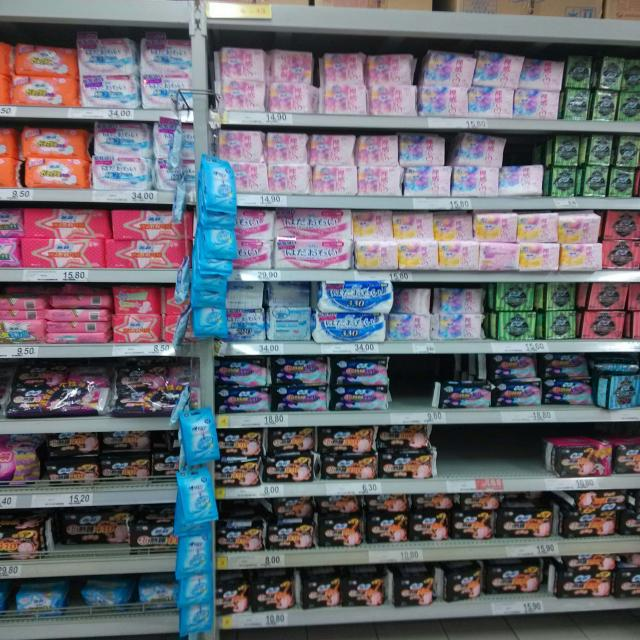100- O.O.S: (440, 427, 538, 490), (392, 355, 430, 424)
